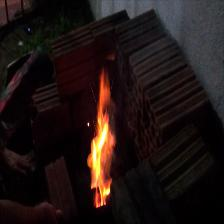fire: (80, 67, 126, 210)
